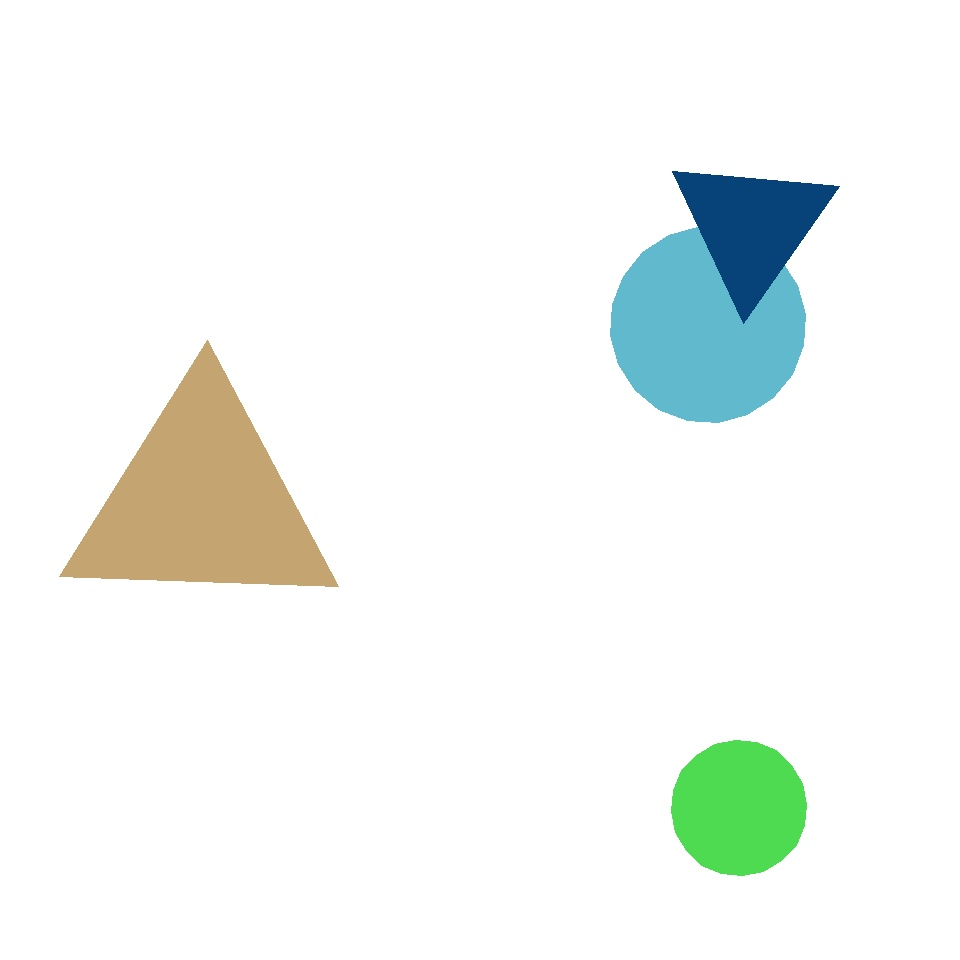circle: (322, 539, 622, 855), (62, 378, 342, 624), (668, 151, 836, 303)
square: (544, 408, 828, 691), (338, 30, 480, 170), (74, 550, 164, 638)
triangle: (610, 228, 806, 422), (672, 740, 806, 876), (253, 372, 354, 474)
